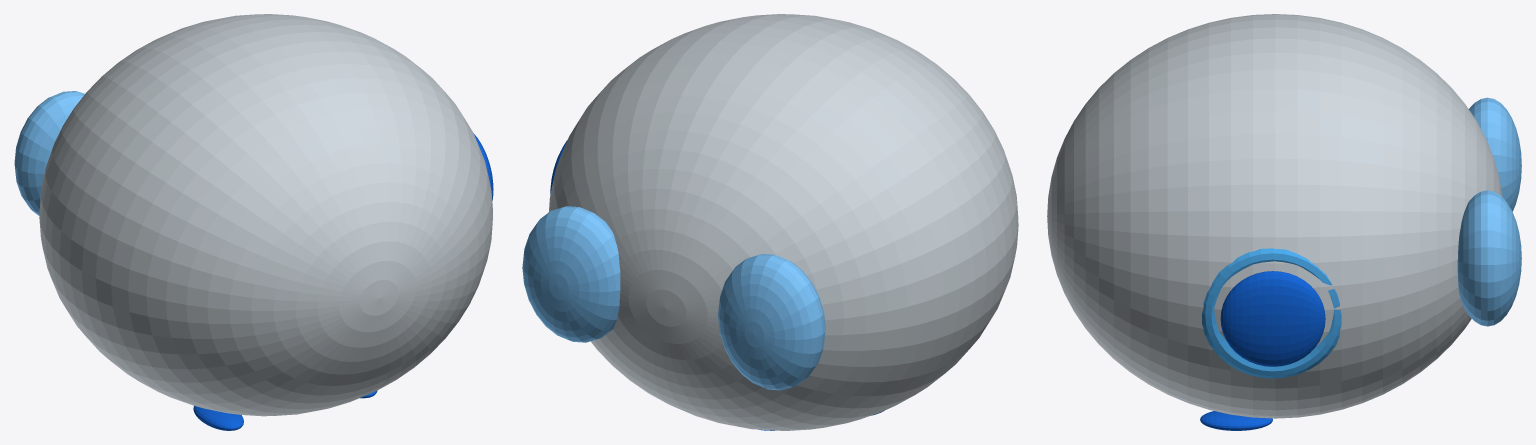
The model's file is baiqiu-mascot.obj.
3 views of the same model, side by side, from view 1: azimuth 30°, elevation 25°; view 2: azimuth 150°, elevation 25°; view 3: azimuth 270°, elevation 25° (orthographic). The views are drawn at different scales.
Visible parts, largest first — view 1: Body, LeftFoot, LeftEye; view 2: Body, LeftFoot, RightFoot; view 3: Body, HeadphoneCup, RightFoot, HeadphoneRing, LeftFoot, RightEye.
Part boxes in pixels (x1,y1,x2,y2): Body: (39, 14, 492, 416); LeftFoot: (14, 91, 84, 215); LeftEye: (193, 405, 243, 430); Body: (549, 14, 1018, 430); LeftFoot: (718, 254, 825, 390); RightFoot: (522, 206, 620, 342); Body: (1047, 14, 1502, 418); HeadphoneCup: (1220, 271, 1325, 366); RightFoot: (1457, 190, 1521, 326); HeadphoneRing: (1202, 248, 1341, 378); LeftFoot: (1469, 97, 1521, 211); RightEye: (1200, 411, 1272, 430).
Size of the model in its own units: 2.07 by 1.73 by 2.08.
